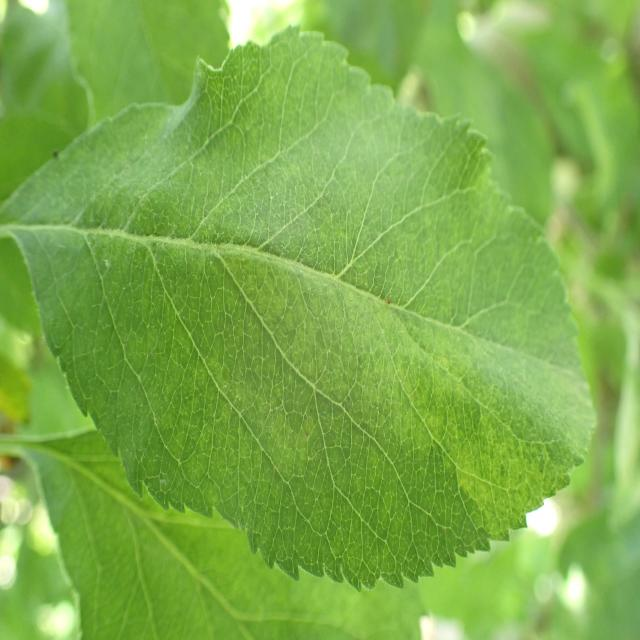scab: (77, 114, 590, 554)
